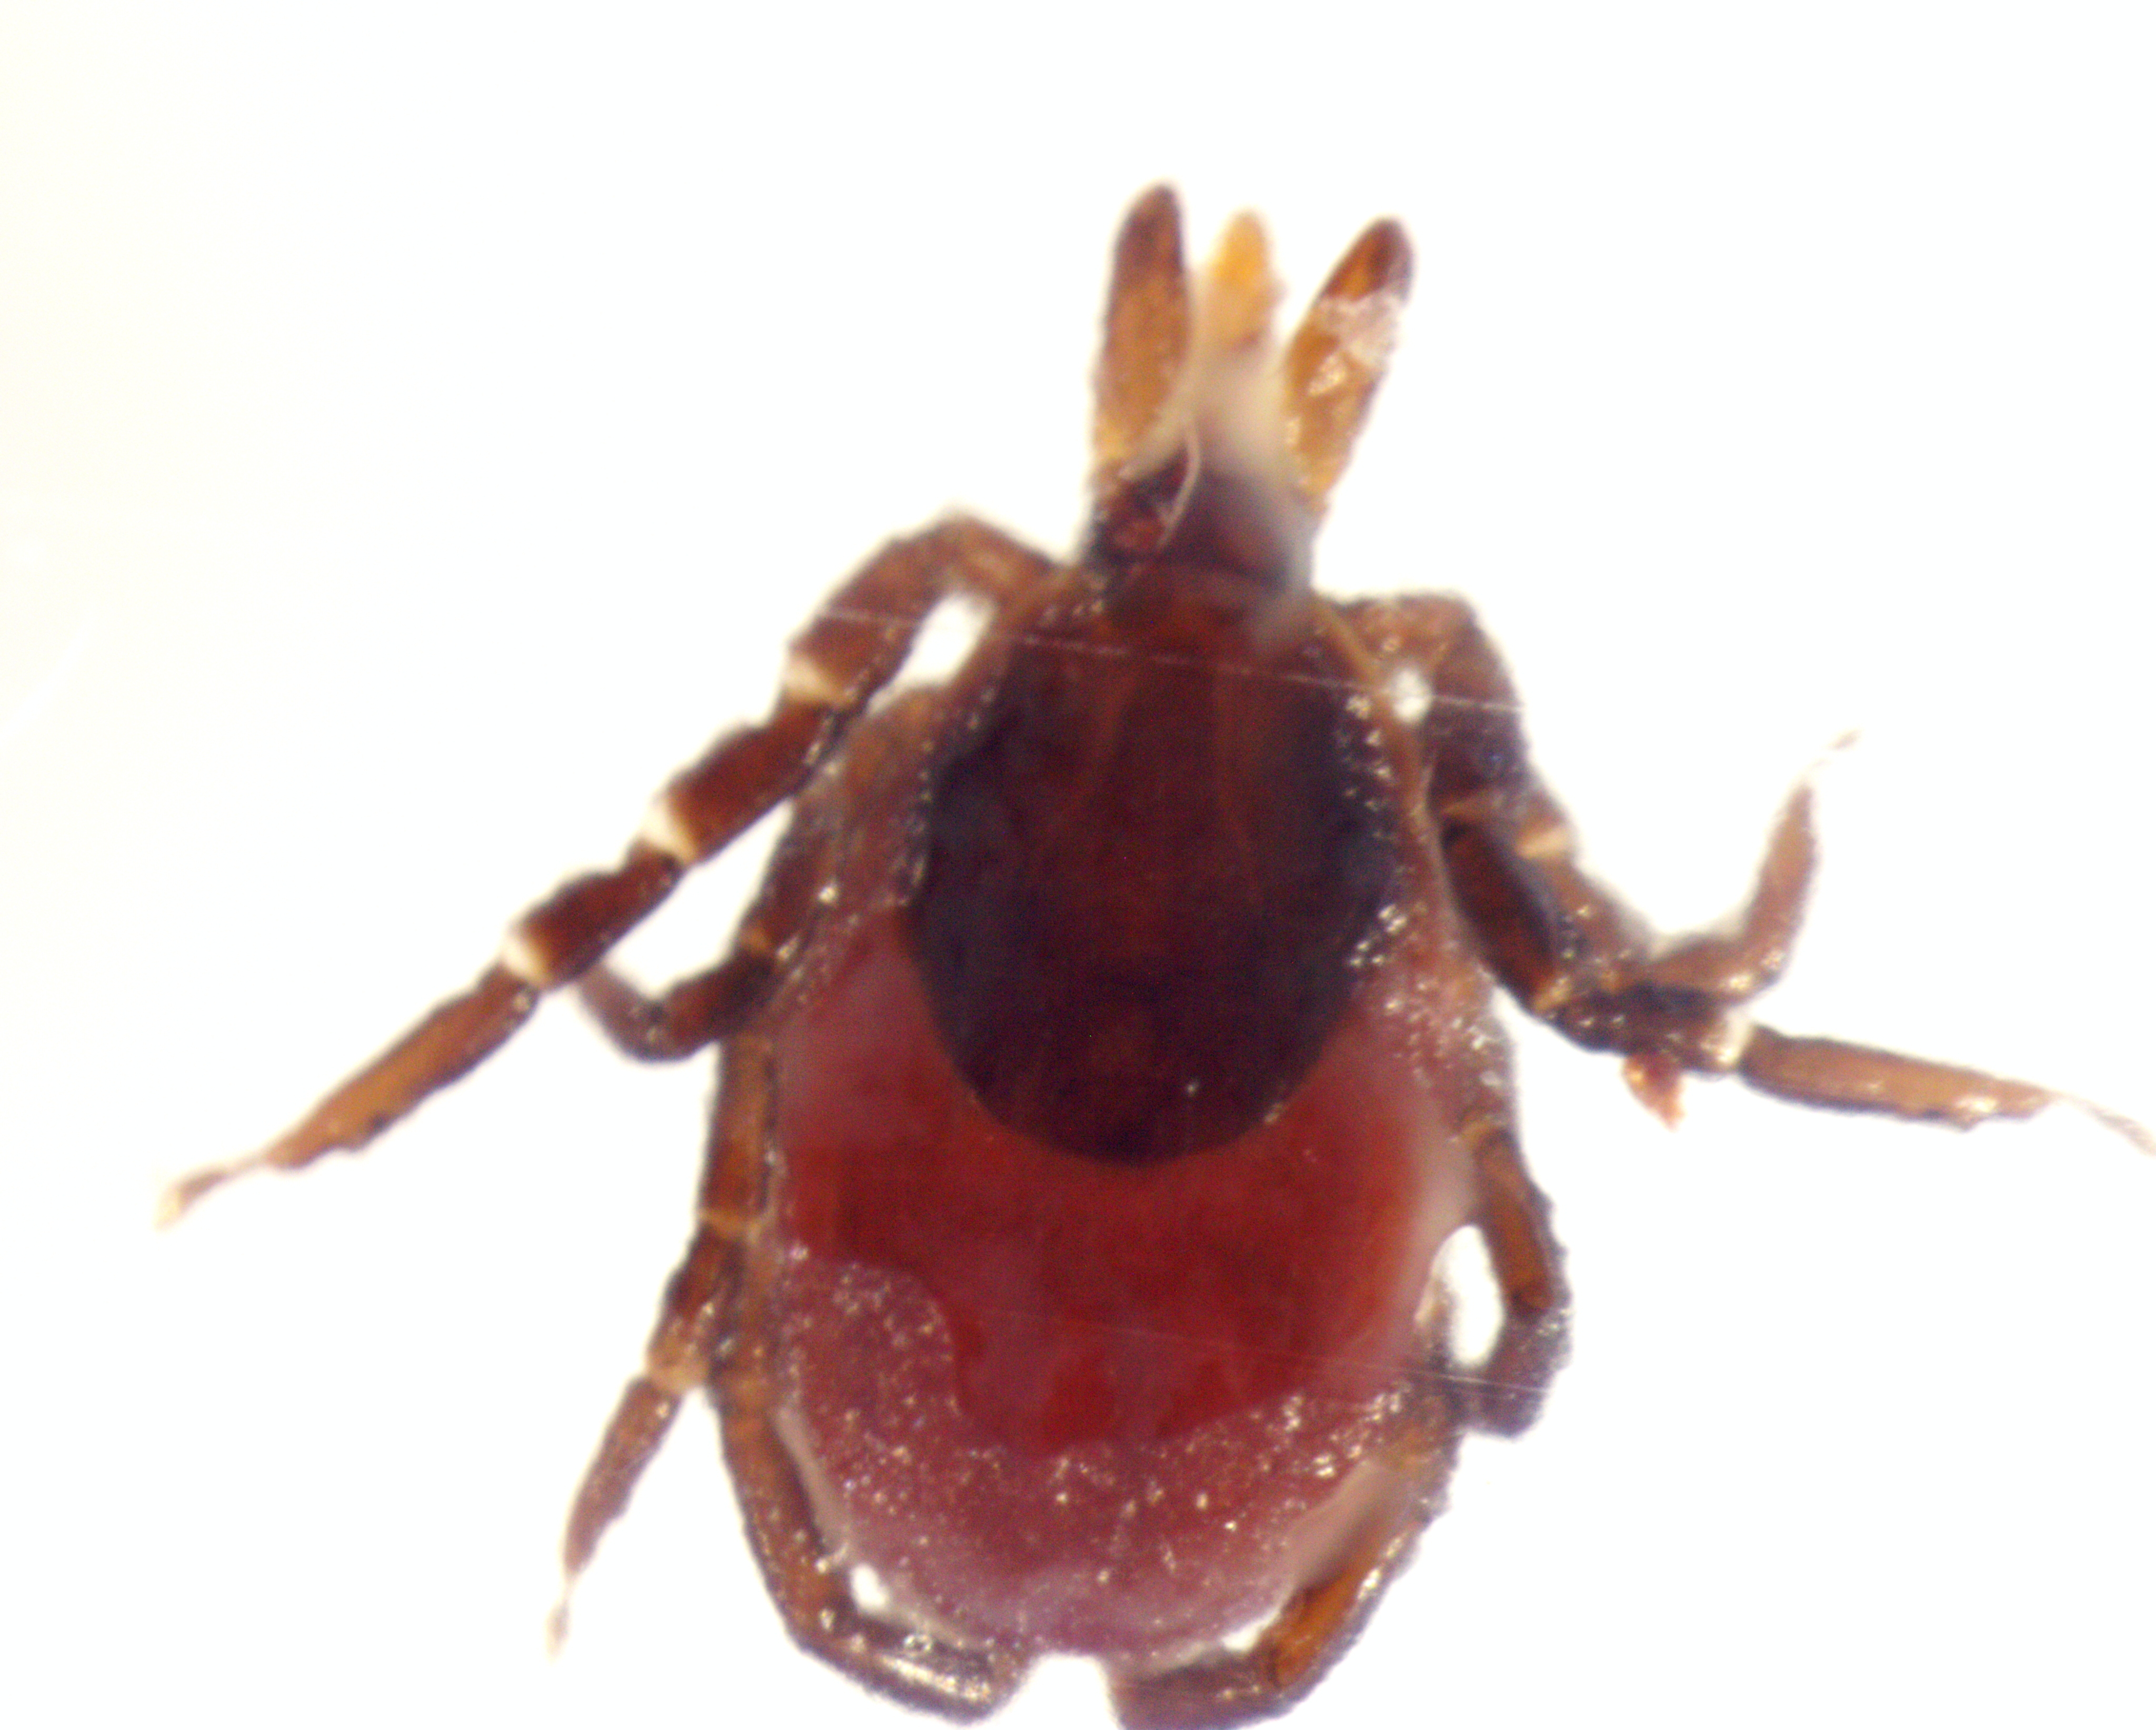unlabelled_tick: (161, 50, 2148, 1726)
